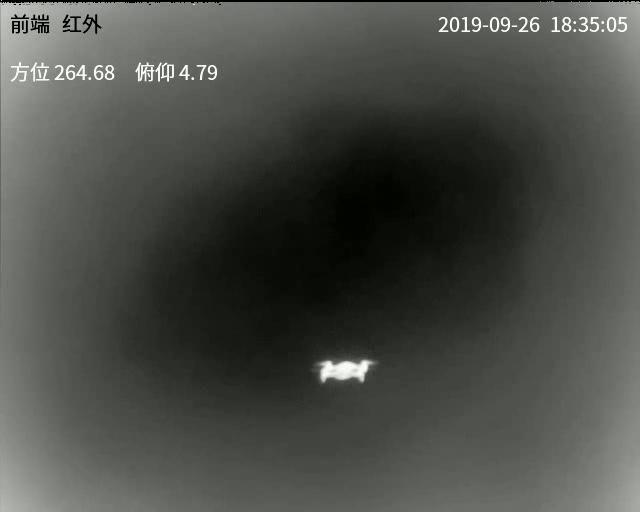DRONE: (316, 358, 372, 384)
